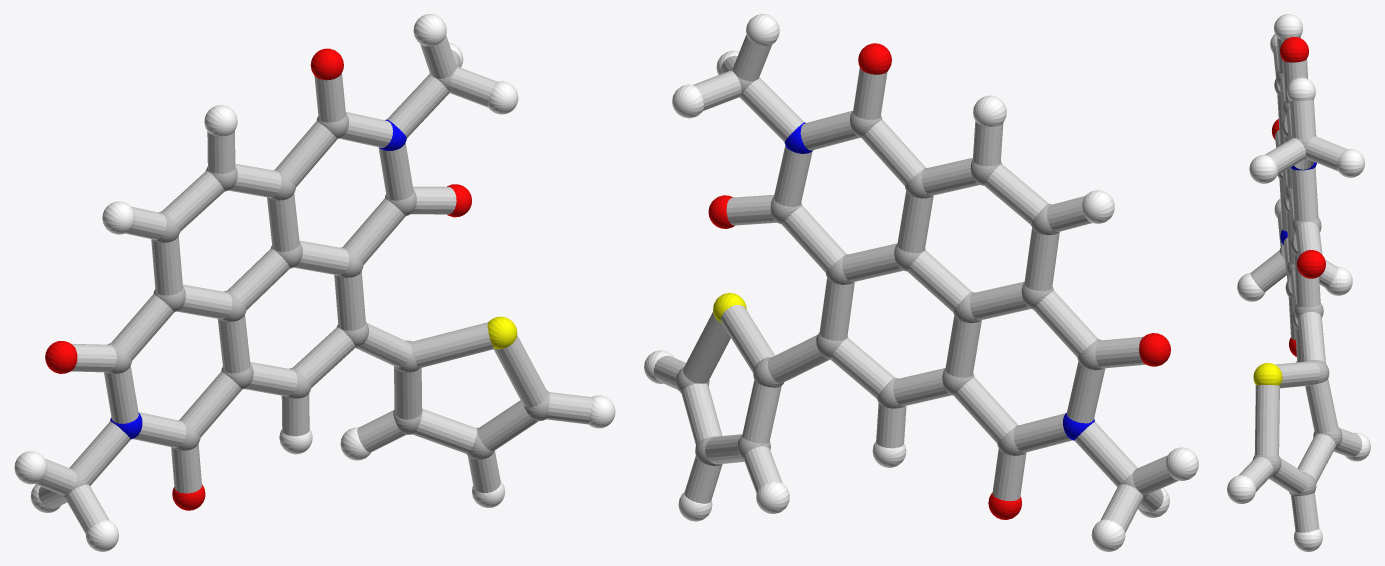
The model's file is Dimethyl_Naphthalene_Dicarboximide_Phi_20_Theta_210_Thiophene.glb.
3 views of the same model, side by side, from view 1: azimuth 30°, elevation 25°; view 2: azimuth 150°, elevation 25°; view 3: azimuth 270°, elevation 25° (orthographic). The views are drawn at different scales.
Parts seen in each view (by area): view 1: grp14119, grp7241, grp1, grp12309, grp13757, grp11585; view 2: grp14119, grp7241, grp1, grp12309, grp11585; view 3: grp14119, grp7241, grp1, grp12309, grp13757.
Boxes of the visible parts, x1,y1,x2,y2 form: grp14119: [35, 35, 591, 533]; grp7241: [14, 14, 615, 551]; grp1: [60, 64, 549, 498]; grp12309: [45, 48, 471, 510]; grp13757: [487, 316, 517, 349]; grp11585: [110, 119, 406, 439]; grp14119: [653, 35, 1178, 532]; grp7241: [644, 14, 1198, 551]; grp1: [676, 67, 1147, 498]; grp12309: [708, 43, 1170, 519]; grp11585: [784, 122, 1094, 440]; grp14119: [1238, 36, 1362, 532]; grp7241: [1227, 14, 1370, 551]; grp1: [1252, 71, 1342, 495]; grp12309: [1272, 37, 1325, 356]; grp13757: [1253, 363, 1282, 385].
Bounding box in the file's own units: 11.85 × 10.13 × 2.97.
